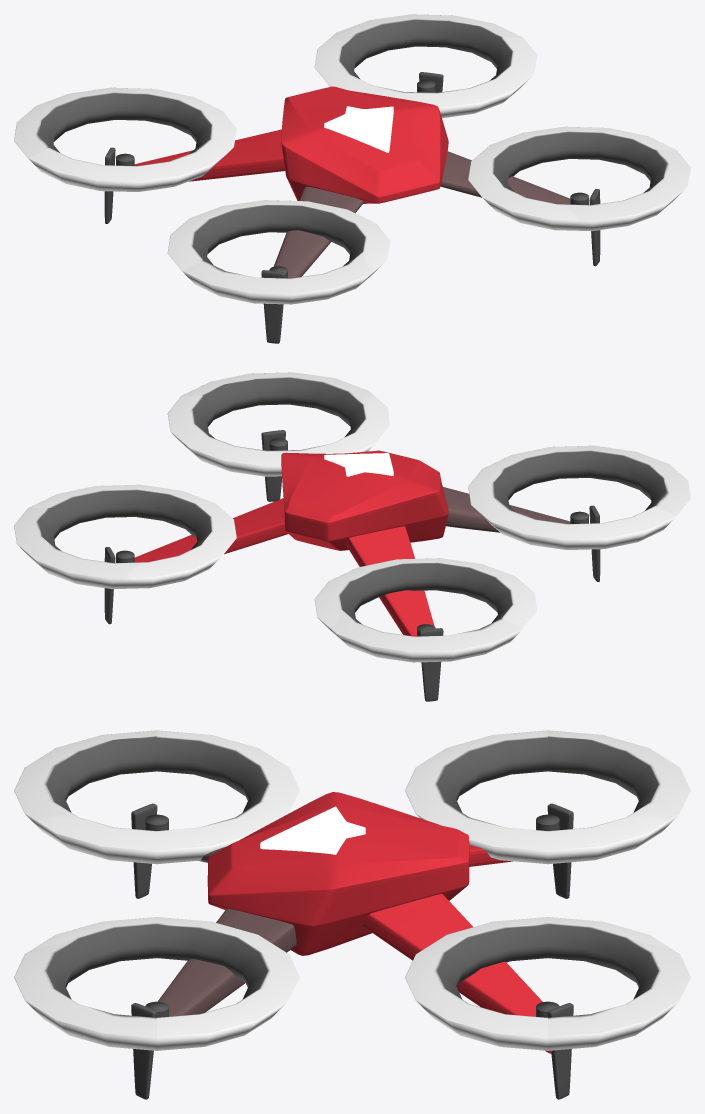
Rendered from Drone.gltf.
3 views of the same model, one above another, from view 1: azimuth 30°, elevation 25°; view 2: azimuth 150°, elevation 25°; view 3: azimuth 270°, elevation 25° (orthographic). The views are drawn at different scales.
Visible parts, largest first — view 1: Torus, Cube, Cube.003, Cube.001, Cube.004, Cube.002, Cylinder; view 2: Torus, Cube, Cube.001, Cube.004, Cube.003, Cube.002, Cylinder; view 3: Torus, Cube, Cube.001, Cube.003, Cube.004, Cube.002, Cylinder.
Boxes of the visible parts, left/top/right/bottom form: Torus: left=14, top=14, right=690, bottom=304; Cube: left=281, top=86, right=448, bottom=203; Cube.003: left=273, top=151, right=570, bottom=278; Cube.001: left=134, top=129, right=285, bottom=181; Cube.004: left=104, top=72, right=600, bottom=343; Cube.002: left=324, top=106, right=393, bottom=152; Cylinder: left=116, top=80, right=588, bottom=278; Torus: left=14, top=372, right=690, bottom=662; Cube: left=281, top=450, right=448, bottom=550; Cube.001: left=134, top=498, right=434, bottom=636; Cube.004: left=104, top=430, right=600, bottom=701; Cube.003: left=281, top=476, right=570, bottom=532; Cube.002: left=324, top=453, right=393, bottom=476; Cylinder: left=116, top=438, right=588, bottom=636; Torus: left=14, top=730, right=690, bottom=1050; Cube: left=207, top=792, right=469, bottom=955; Cube.001: left=363, top=845, right=551, bottom=1053; Cube.003: left=158, top=846, right=296, bottom=1016; Cube.004: left=131, top=803, right=573, bottom=1099; Cube.002: left=260, top=806, right=365, bottom=854; Cylinder: left=145, top=814, right=559, bottom=1017.
Bounding box in the file's own units: 9.99 × 2.57 × 9.29.
Materials: 5 (1 with a texture image).
